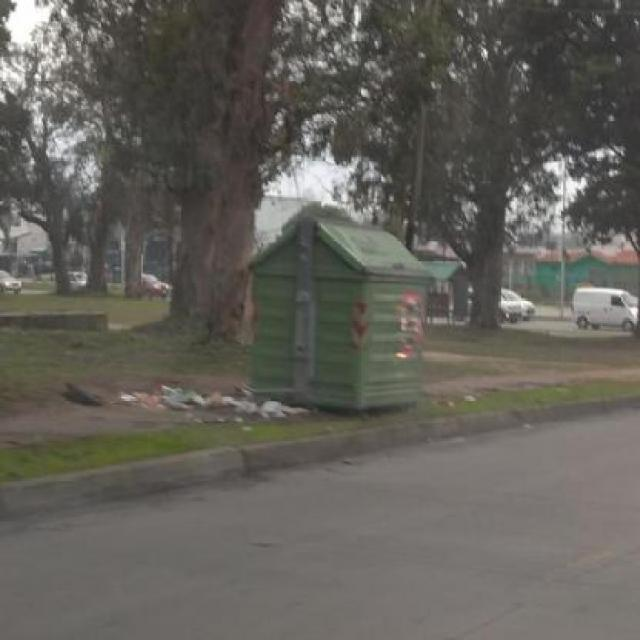garbage: (43, 362, 312, 442), (429, 362, 493, 429)
